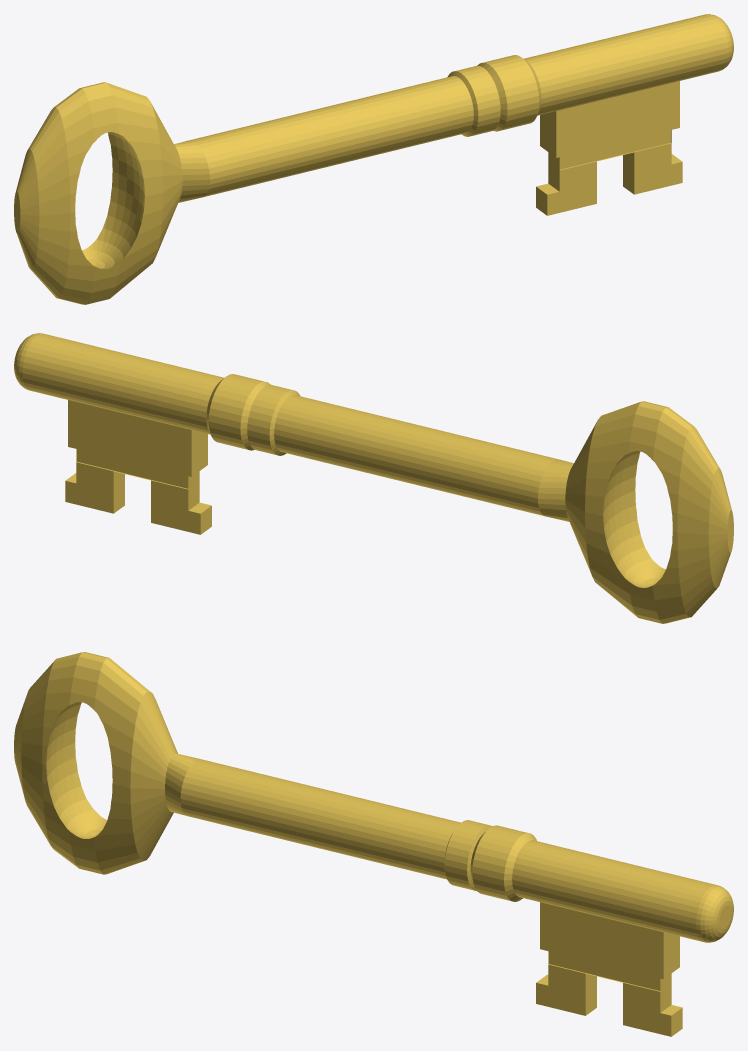
Rendered from key.fbx.
The picture shows the model from 3 angles, top to bottom: view 1: azimuth 30°, elevation 25°; view 2: azimuth 150°, elevation 25°; view 3: azimuth 330°, elevation 25°; orthographic projection.
Parts seen in each view (by area): view 1: Cylinder; view 2: Cylinder; view 3: Cylinder.
Boxes of the visible parts, bbox=[...] form: Cylinder: bbox=[14, 14, 733, 304]; Cylinder: bbox=[14, 333, 733, 623]; Cylinder: bbox=[14, 652, 733, 1036].
Bounding box in the file's own units: 409 × 130 × 35.31.
